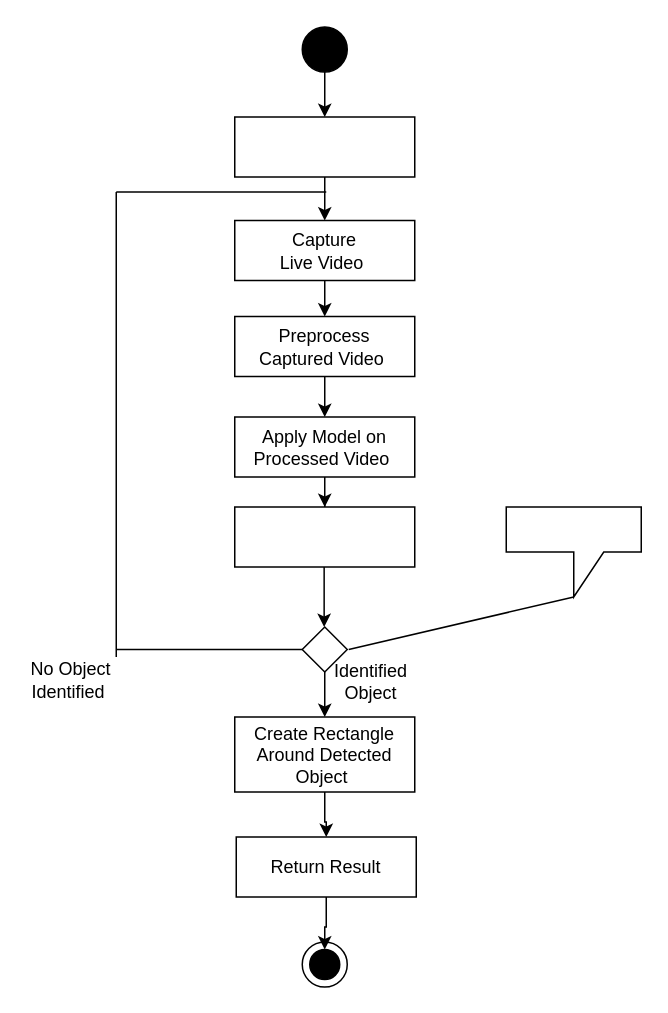
Some shapes in this 668 by 1013 pixel diagram are drawn without their labels. Here are the shapes that lost their labels. From the top down, the centre of each, then its label:
(324,146): Start up
(324,536): Get Human Identifiers
(573,551): Identify Object
